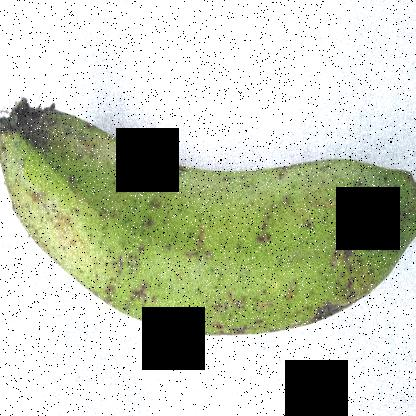rotten: (295, 280, 384, 355), (0, 94, 71, 161)
unripe: (0, 81, 415, 344)
